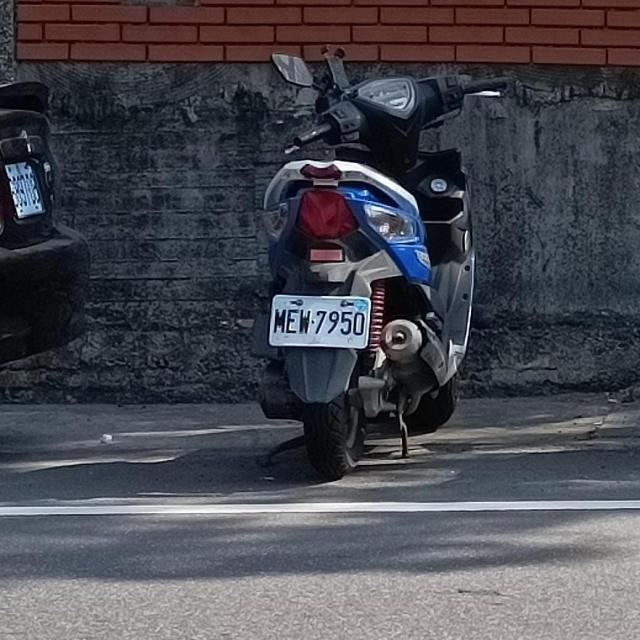W: (265, 290, 381, 352)
